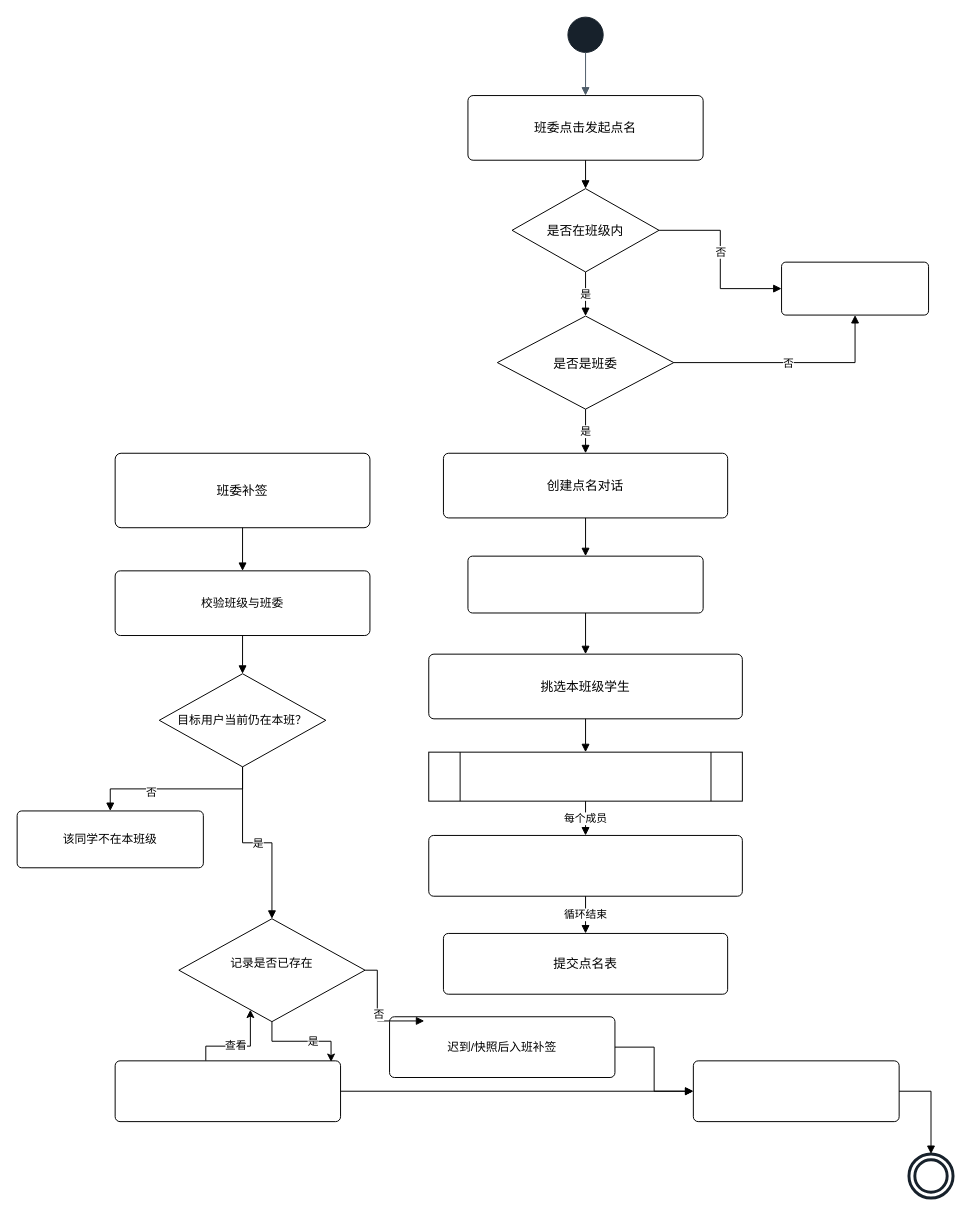
This 971x1216 diagram has some shape labels left out. The shapes that lost their labels are listed below. From the top down, each one's centre as x and y in pixels, then its label:
At pixel 855 288: "拒绝应答".
At pixel 585 584: "建立记录表".
At pixel 585 776: "循环当前班级成员".
At pixel 585 865: "找出缺勤人员".
At pixel 227 1091: "更新记录".
At pixel 795 1091: "COMMIT 返回 点名表".
